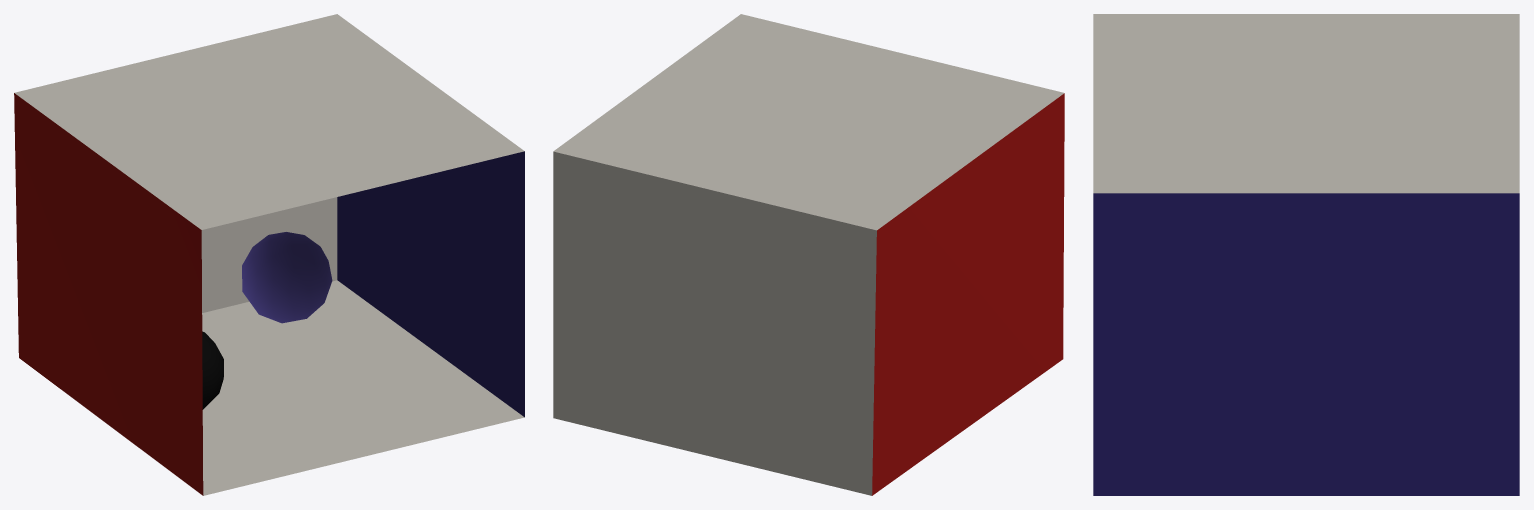
Rendered from CornellBox-Sphere-476.obj.
3 views of the same model, side by side, from view 1: azimuth 30°, elevation 25°; view 2: azimuth 150°, elevation 25°; view 3: azimuth 270°, elevation 25° (orthographic). The views are drawn at different scales.
Parts seen in each view (by area): view 1: ceiling, leftWall, floor, rightWall, backWall, leftSphere, rightSphere; view 2: backWall, ceiling, leftWall; view 3: rightWall, ceiling.
Boxes of the visible parts, x1,y1,x2,y2 form: ceiling: [14, 14, 524, 229]; leftWall: [14, 93, 203, 495]; floor: [202, 280, 524, 495]; rightWall: [337, 151, 524, 417]; backWall: [201, 197, 337, 312]; leftSphere: [242, 232, 332, 323]; rightSphere: [202, 331, 223, 409]; backWall: [553, 151, 876, 495]; ceiling: [553, 14, 1064, 230]; leftWall: [872, 93, 1064, 495]; rightWall: [1093, 193, 1519, 495]; ceiling: [1093, 14, 1519, 193].
Size of the model in its own units: 2.02 by 1.59 by 2.03.
